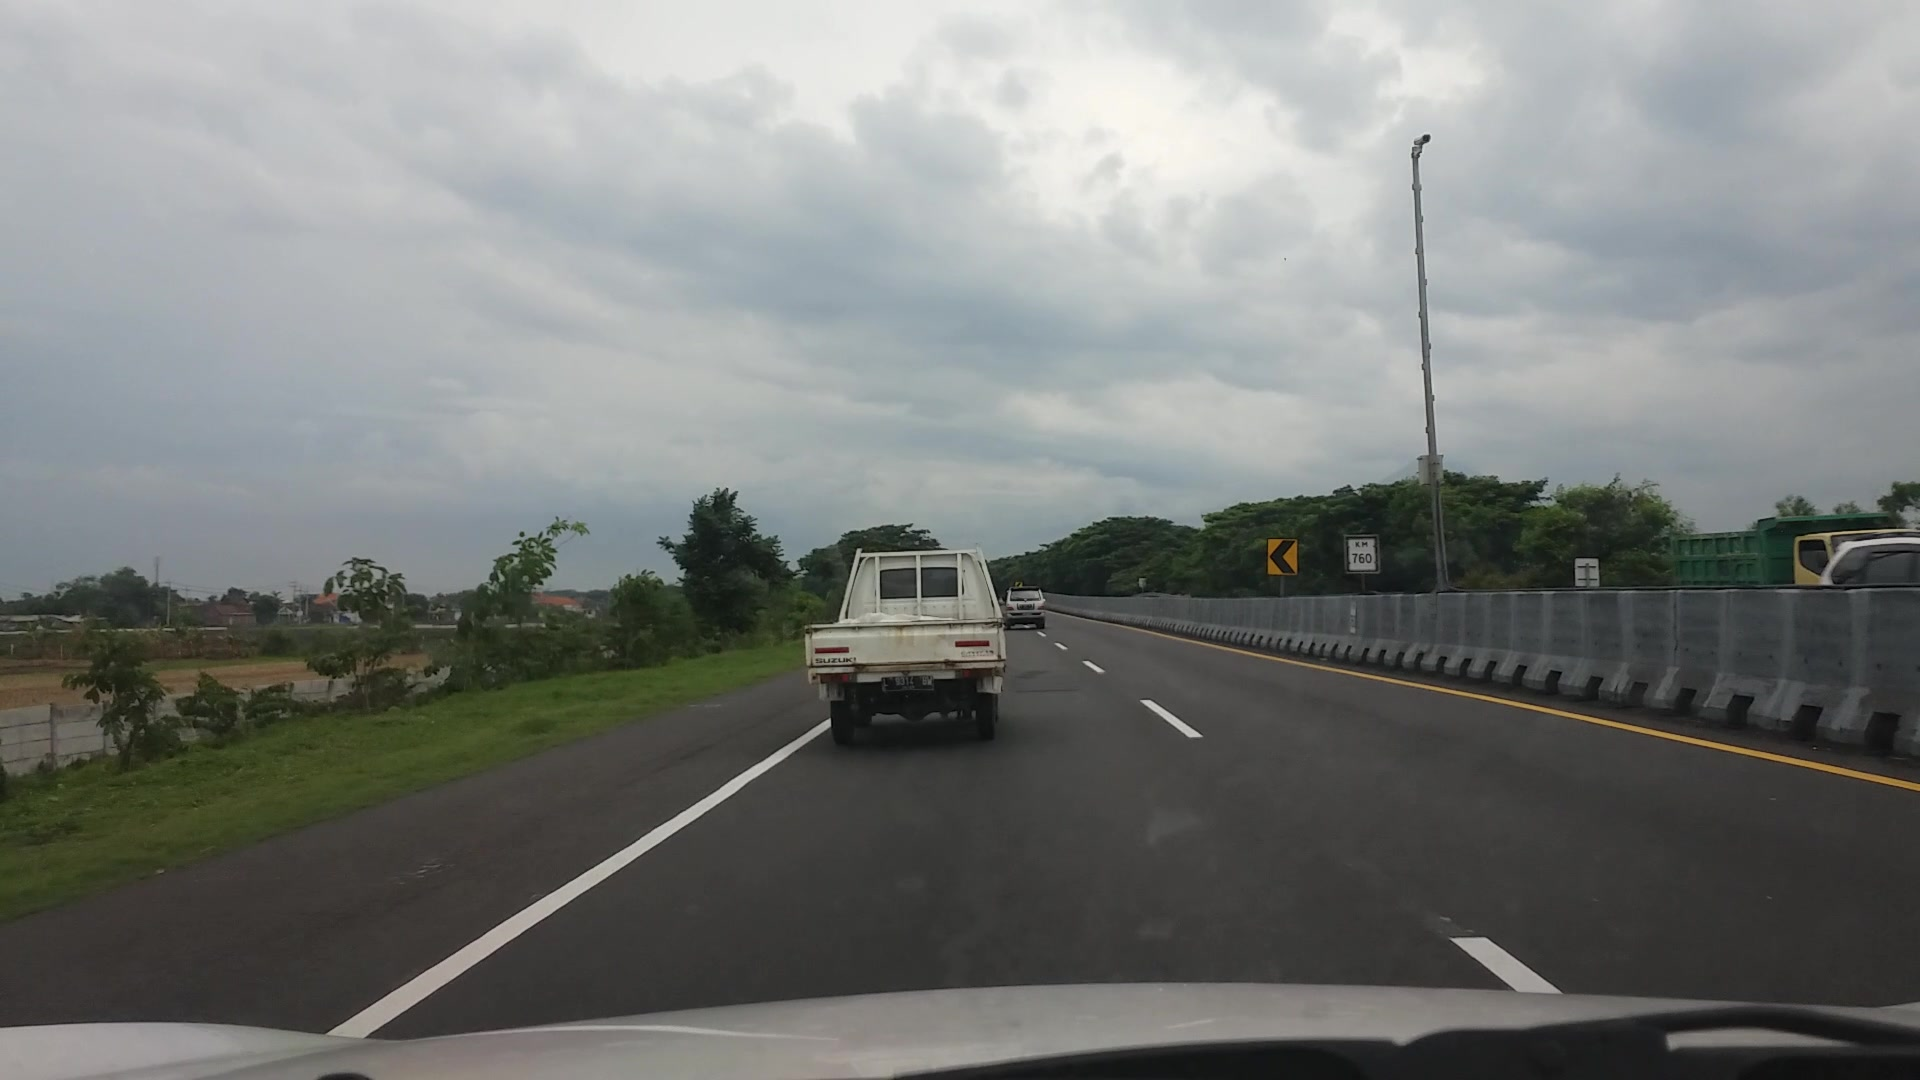plate_positive: (881, 676, 934, 694)
